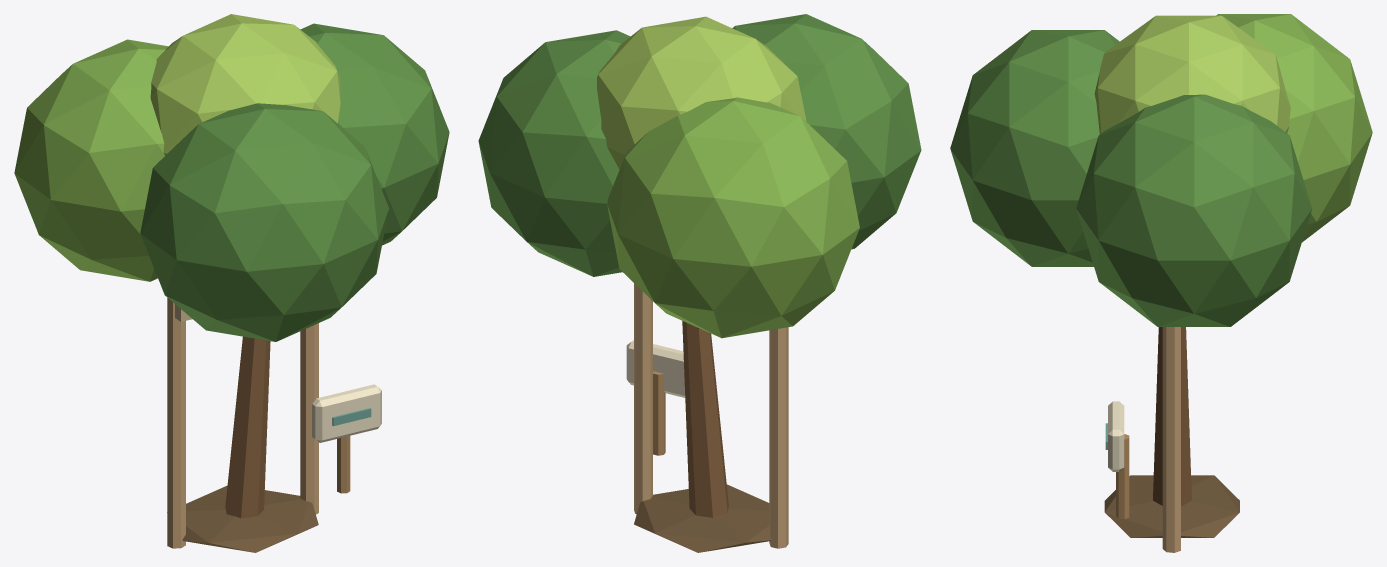
The model's file is farm_art_orchard_young.glb.
The picture shows the model from 3 angles, left to right: view 1: azimuth 30°, elevation 25°; view 2: azimuth 150°, elevation 25°; view 3: azimuth 270°, elevation 25°; orthographic projection.
Parts seen in each view (by area): view 1: Rounded orchard canopy.002, Rounded orchard canopy.001, Sunlit crown, Rounded orchard canopy, Tapered fruit tree trunk, Root soil collar, Young tree support stake, Young tree support stake.001, Cream plant marker.002, Plant label stake.002; view 2: Rounded orchard canopy.001, Rounded orchard canopy, Rounded orchard canopy.002, Sunlit crown, Tapered fruit tree trunk, Root soil collar, Young tree support stake, Young tree support stake.001, Cream plant marker.002, Plant label stake.002; view 3: Rounded orchard canopy, Rounded orchard canopy.002, Sunlit crown, Rounded orchard canopy.001, Root soil collar, Young tree support stake.001, Tapered fruit tree trunk, Cream plant marker.002, Plant label stake.002.
Part boxes in pixels (box(x1,y1,x2,y2)): Rounded orchard canopy.002: box(140, 103, 388, 341); Rounded orchard canopy.001: box(14, 39, 168, 281); Sunlit crown: box(150, 14, 340, 155); Rounded orchard canopy: box(300, 23, 449, 245); Tapered fruit tree trunk: box(225, 336, 270, 518); Root soil collar: box(167, 485, 318, 552); Young tree support stake: box(167, 298, 185, 548); Young tree support stake.001: box(300, 323, 318, 514); Cream plant marker.002: box(312, 384, 381, 442); Plant label stake.002: box(337, 436, 350, 493); Rounded orchard canopy.001: box(607, 97, 859, 338); Rounded orchard canopy: box(478, 30, 630, 276); Rounded orchard canopy.002: box(732, 14, 921, 249); Sunlit crown: box(597, 16, 806, 169); Tapered fruit tree trunk: box(682, 321, 728, 517); Root soil collar: box(634, 484, 772, 552); Young tree support stake: box(769, 327, 788, 548); Young tree support stake.001: box(634, 283, 652, 514); Cream plant marker.002: box(626, 340, 685, 397); Plant label stake.002: box(653, 371, 665, 455); Rounded orchard canopy: box(1076, 94, 1312, 326); Rounded orchard canopy.002: box(950, 30, 1119, 266); Sunlit crown: box(1094, 15, 1290, 133); Rounded orchard canopy.001: box(1216, 14, 1372, 242); Root soil collar: box(1104, 475, 1239, 537); Young tree support stake.001: box(1162, 327, 1180, 552); Tapered fruit tree trunk: box(1153, 327, 1191, 506); Cream plant marker.002: box(1108, 401, 1124, 471); Plant label stake.002: box(1116, 434, 1129, 518).
Bounding box in the file's own units: 1.55 × 2 × 1.54.
